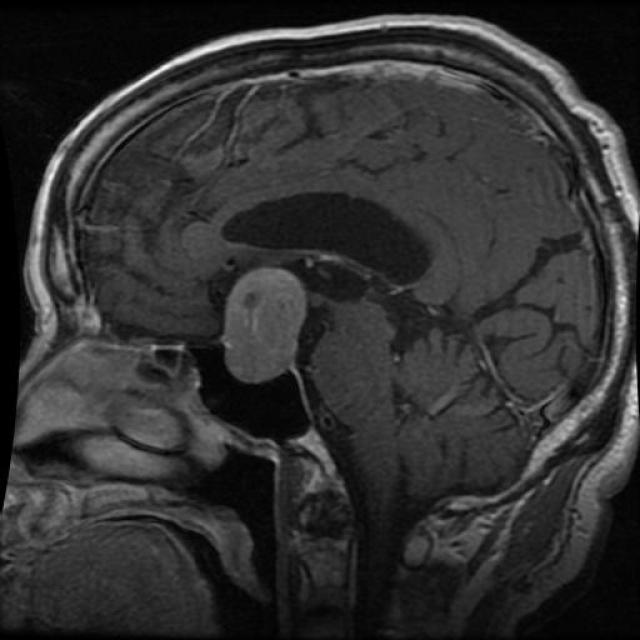Brain-Tumor: (207, 245, 323, 396)
